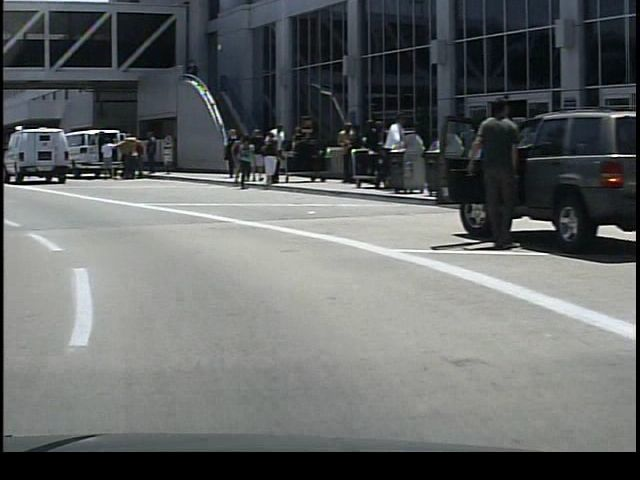person: (453, 80, 526, 256), (260, 122, 285, 185), (369, 111, 401, 160), (256, 134, 278, 185), (116, 132, 137, 183), (141, 130, 163, 178), (97, 137, 116, 185), (229, 126, 233, 180)
